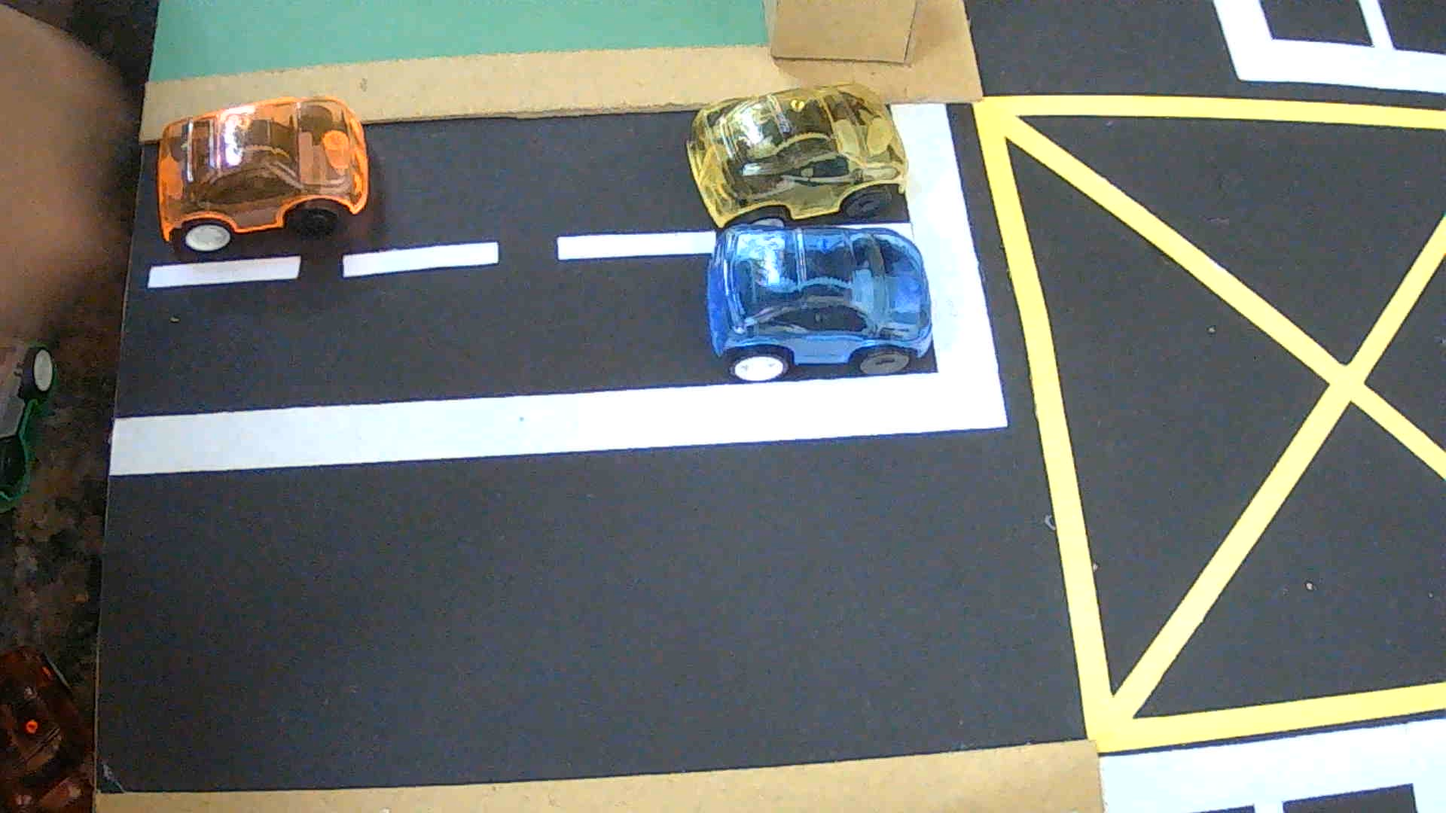Mobil biru: (706, 224, 932, 380)
Mobil kuning: (686, 84, 907, 227)
Mobil orange: (156, 97, 371, 253)
